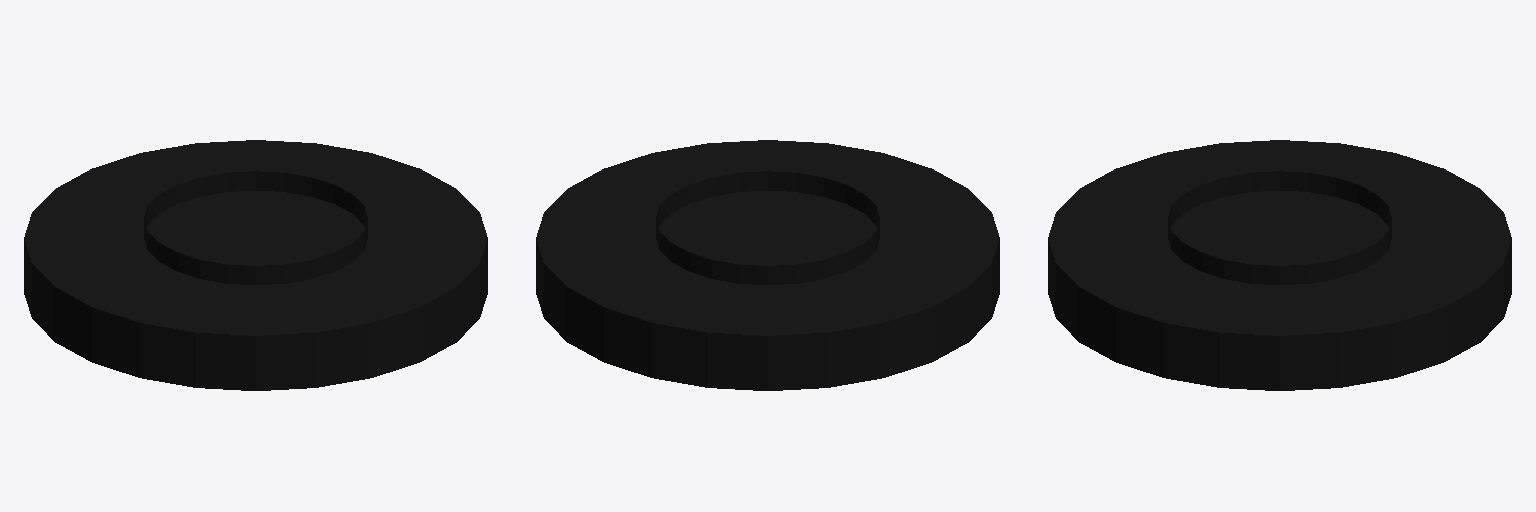
The model's file is thetunnelbehind.obj.
3 views of the same model, side by side, from view 1: azimuth 30°, elevation 25°; view 2: azimuth 150°, elevation 25°; view 3: azimuth 270°, elevation 25° (orthographic).
Parts seen in each view (by area): view 1: thetunnelbehind-SKP-Color_M08; view 2: thetunnelbehind-SKP-Color_M08; view 3: thetunnelbehind-SKP-Color_M08.
Boxes of the visible parts, box(x1,y1,x2,y2) form: thetunnelbehind-SKP-Color_M08: box(24, 140, 487, 390); thetunnelbehind-SKP-Color_M08: box(536, 140, 999, 390); thetunnelbehind-SKP-Color_M08: box(1048, 140, 1511, 390).
Bounding box in the file's own units: 103 × 18.35 × 103.